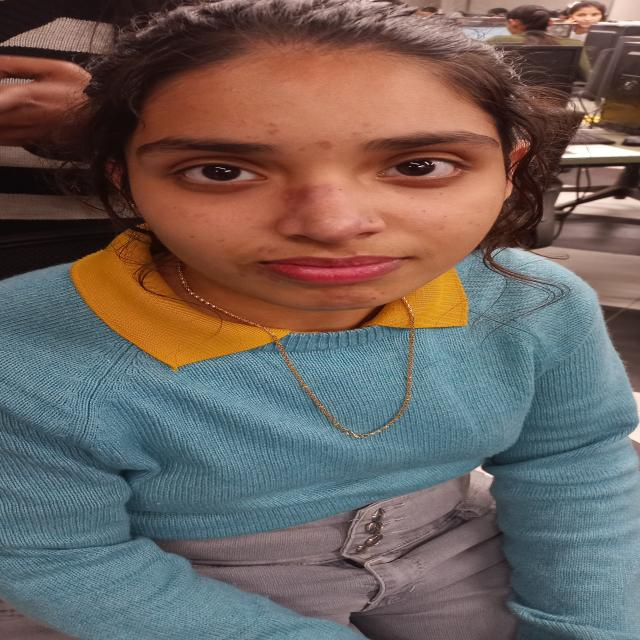Spots: (276, 177, 337, 217), (306, 287, 376, 309), (329, 119, 381, 143), (296, 134, 345, 154), (258, 118, 296, 138), (242, 243, 278, 255)
